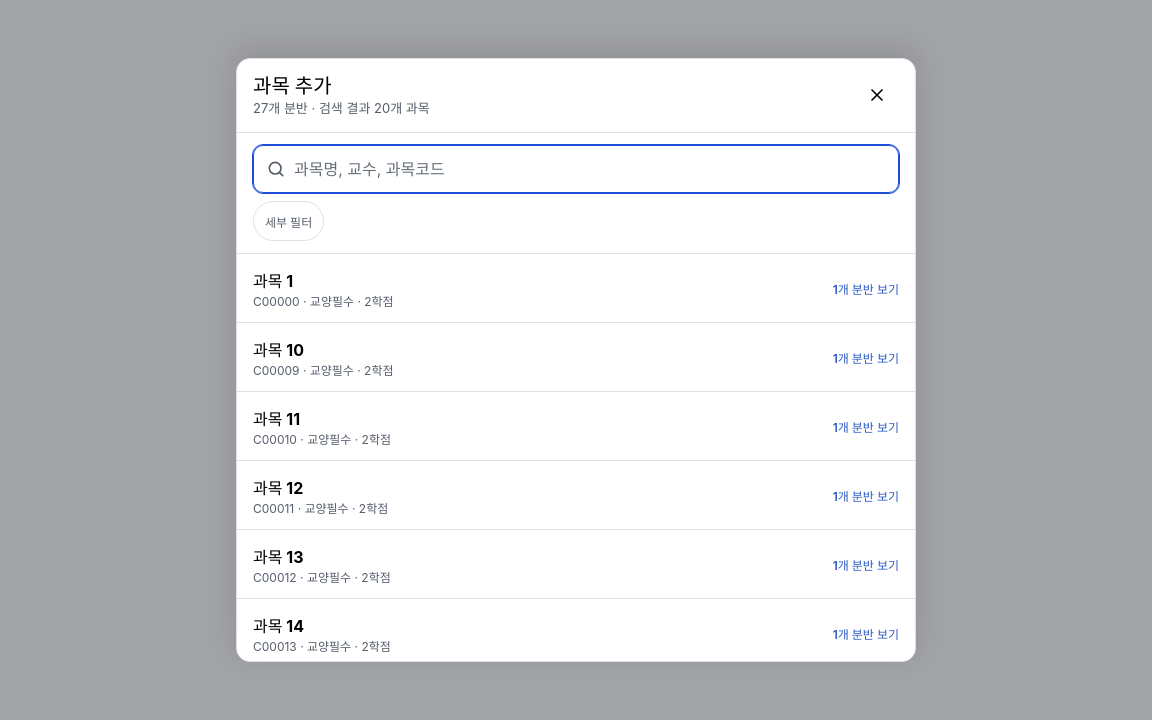
Test case: course search sheet › marks a section that overlaps the current timetable as a conflict
Type "AI시대" into the field named "과목명, 교수, 과목코드 검색" at (590, 169), box [294,146,886,192]
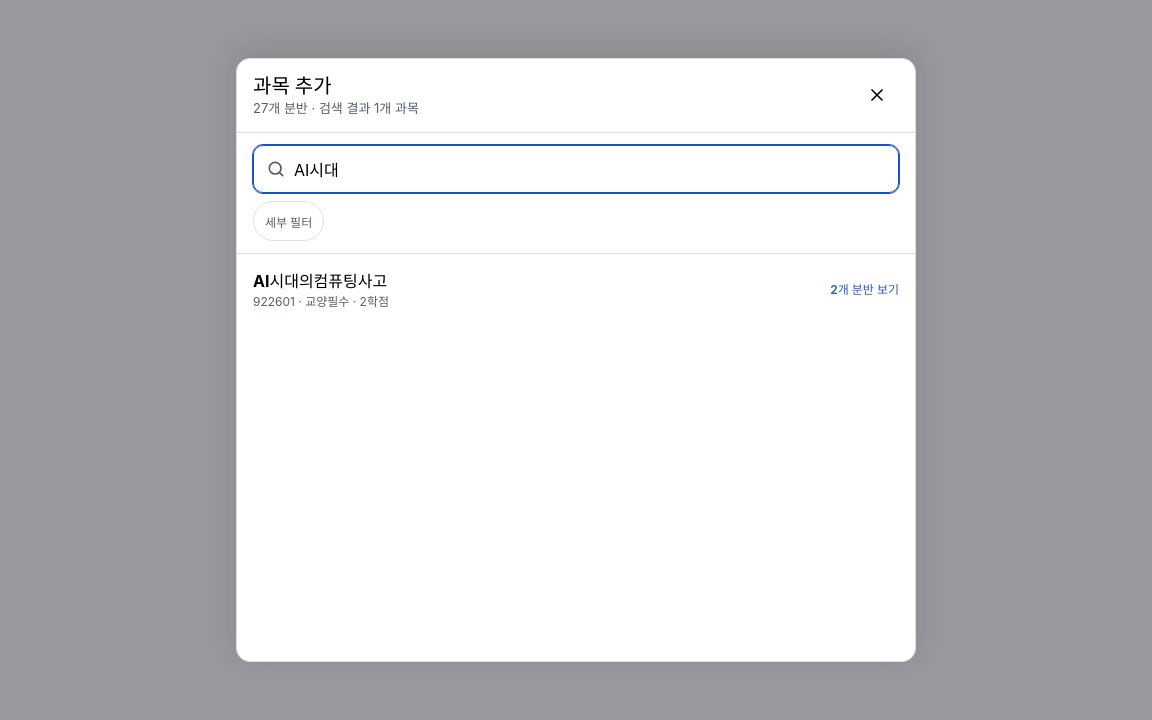
Click the button "AI시대의컴퓨팅사고 922601 · 교양필수 · 2학점 2개 분반 보기" at (320, 281), box [237,254,915,322]
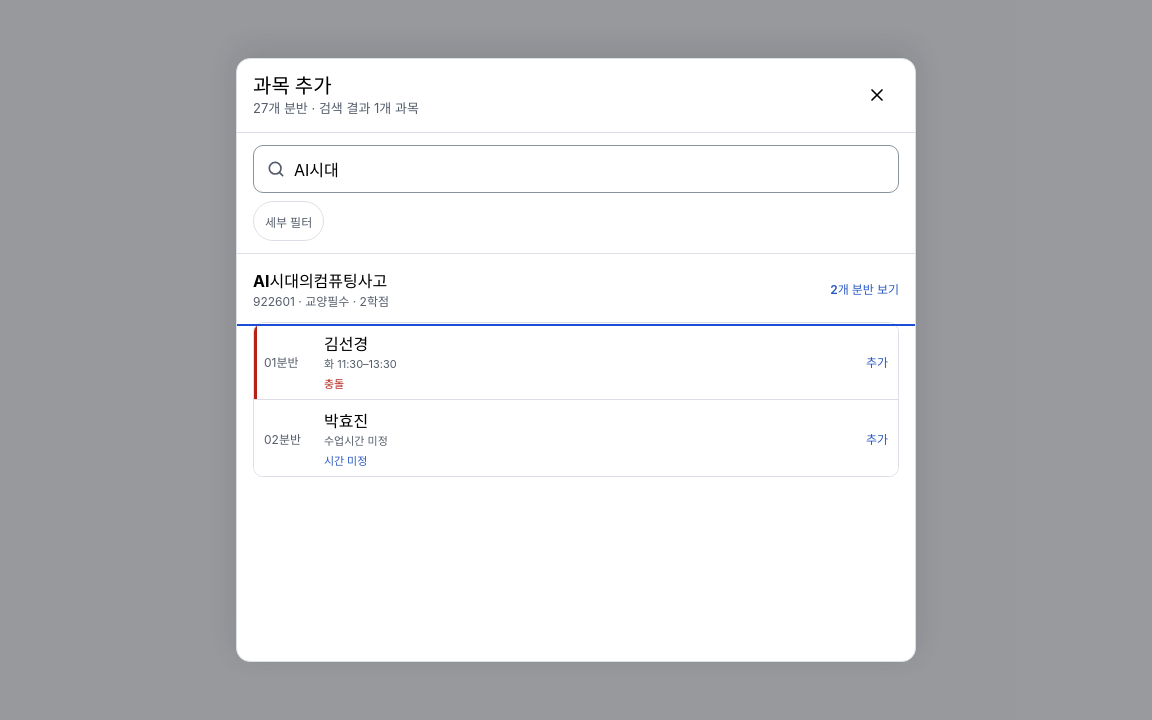
Expected: the button "01분반 김선경 화 11:30–13:30 충돌 추가" is shown, [254,323,898,399]
